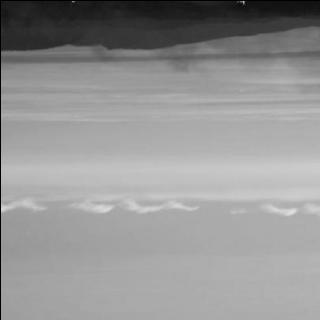Cirrostratus: (0, 176, 320, 234)
